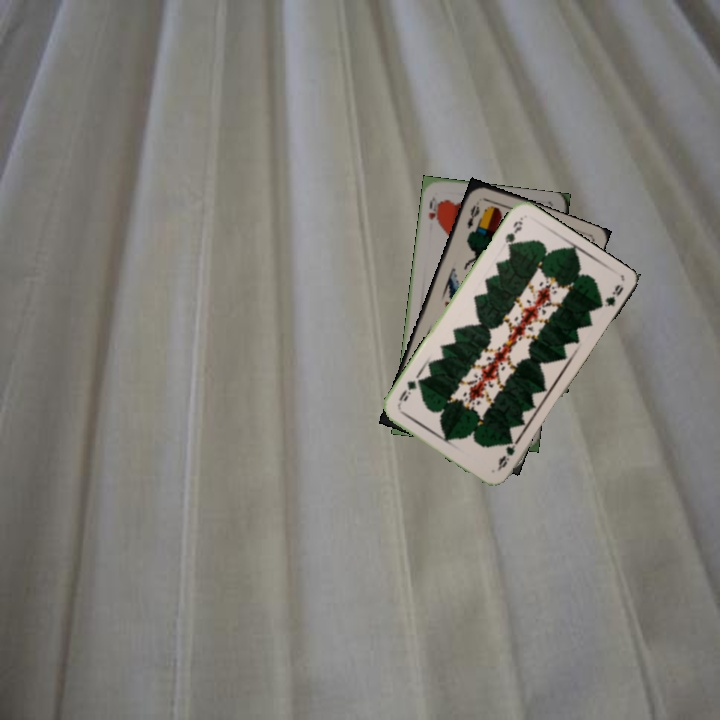EO: (463, 197, 482, 231)
G9: (493, 434, 520, 473), (501, 214, 525, 251)
HO: (425, 193, 443, 227)
